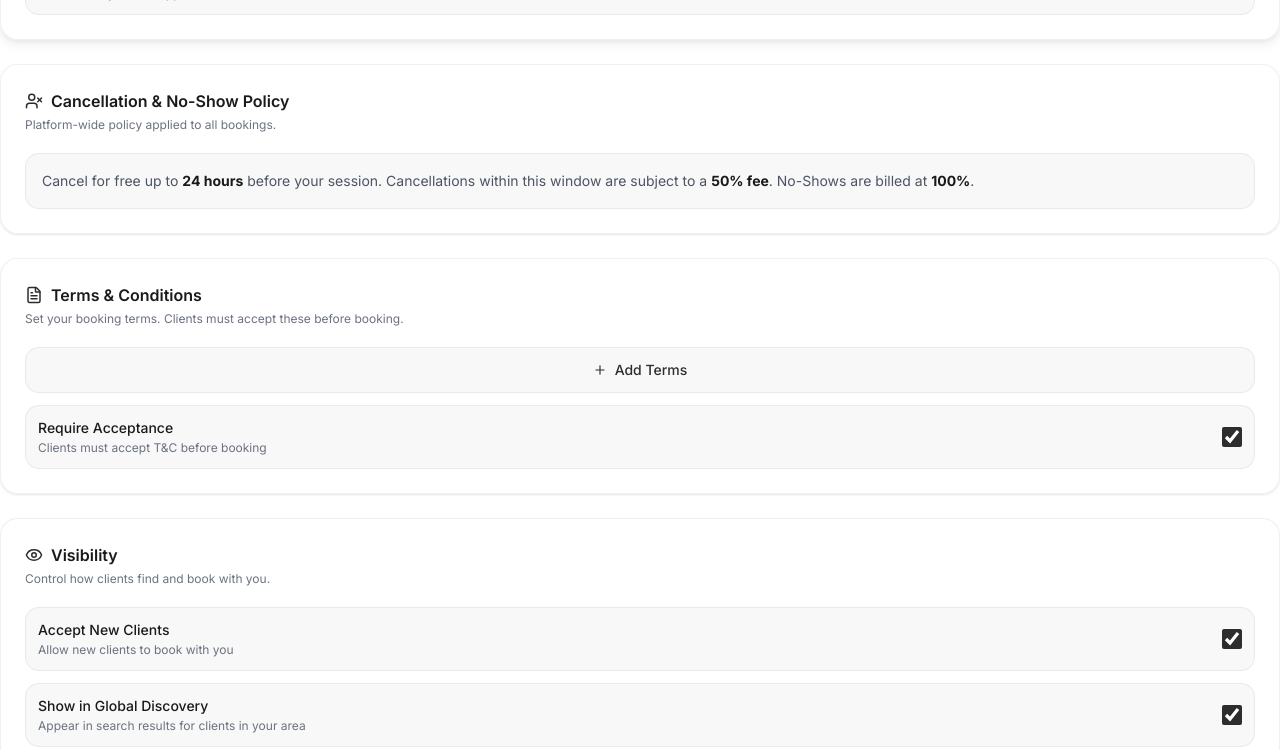
Test: BusinessSettingsPanel › Interactivity › opens terms modal, enters text, and saves it
(page scrolled)
Step 1. Click the button "Add Terms" → [640, 370], box [25, 347, 1255, 393]
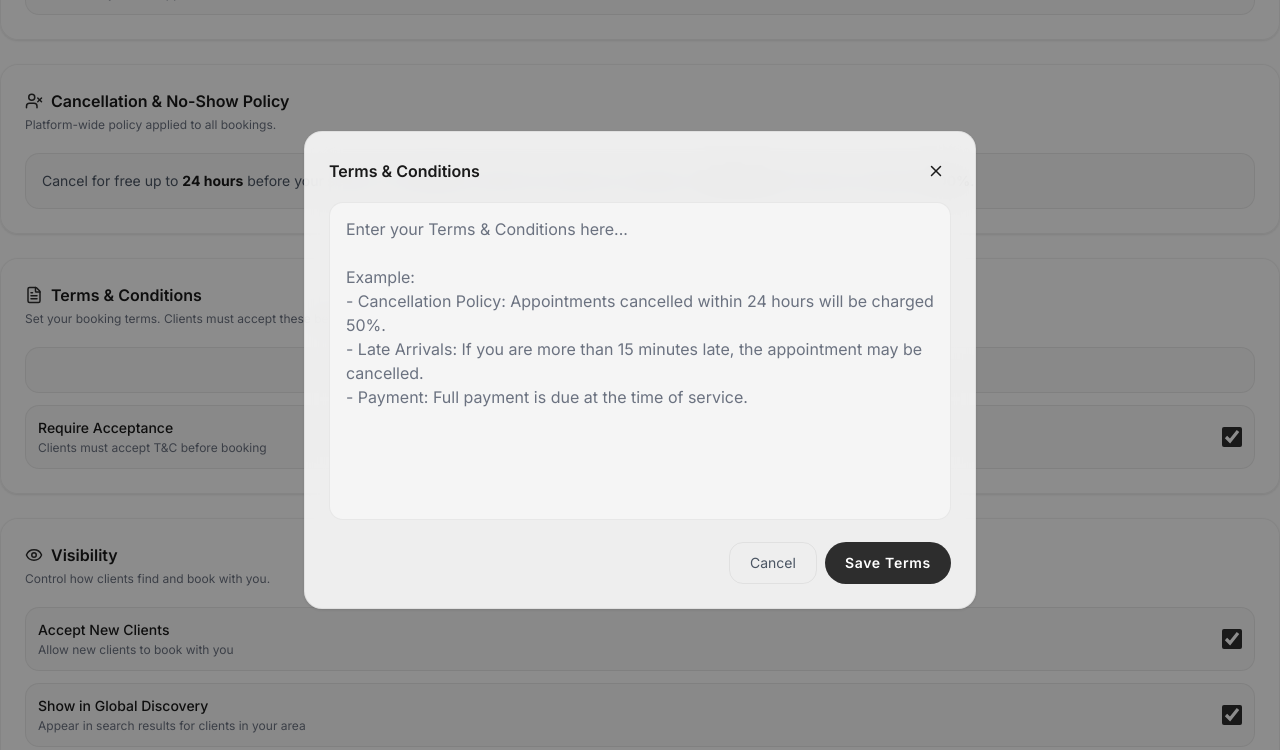
Step 2. Replace the text in the text box with placeholder "Enter your Terms & Conditions here" with "New terms here" → [640, 361], box [329, 202, 951, 520]
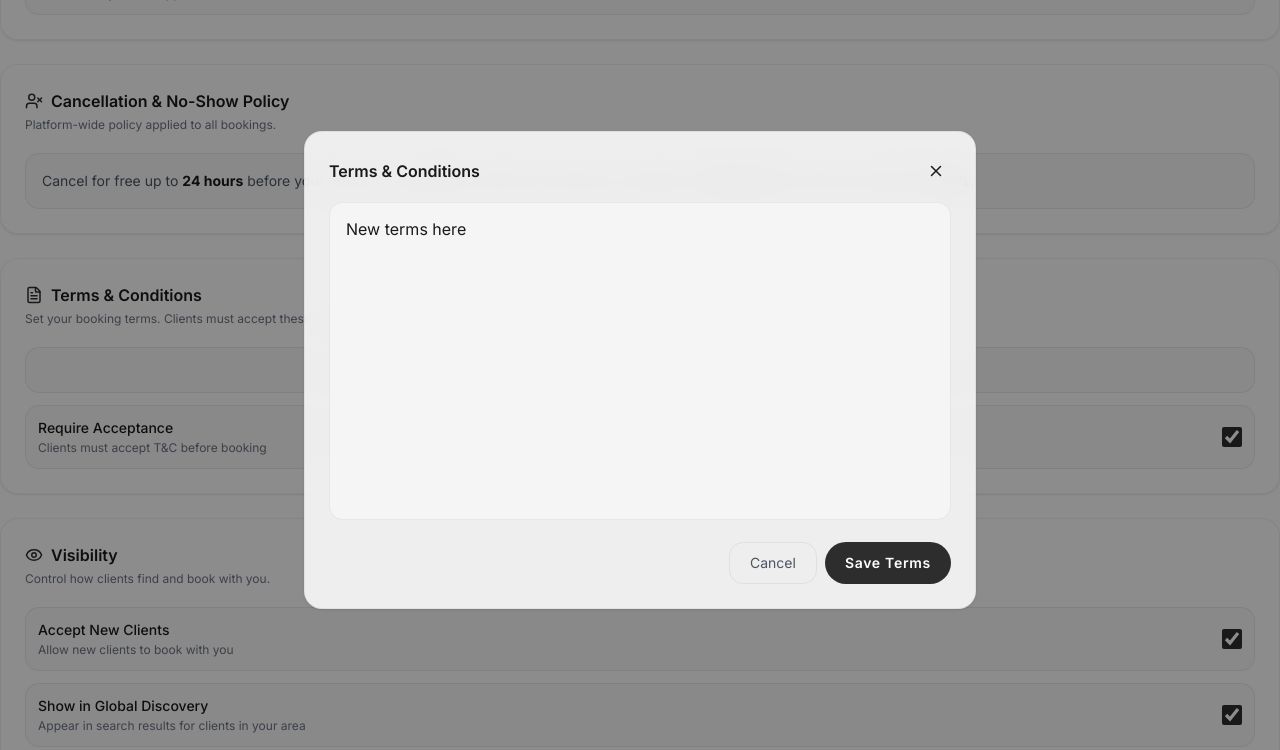
Step 3. Click the button "Save Terms" → [888, 563], box [825, 542, 951, 584]
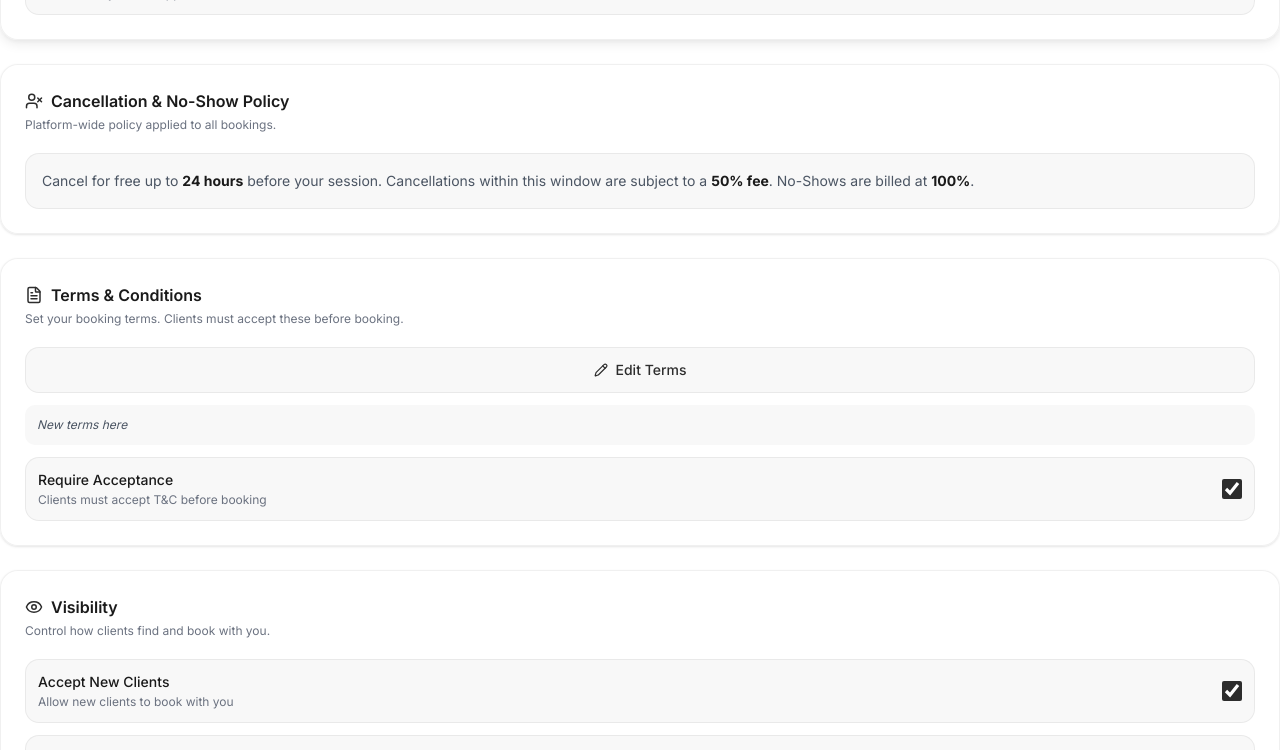
Expected: the field with placeholder "Enter your Terms & Conditions here" is not shown
Result: the text "New terms here" is shown at [25, 405, 1255, 445]
